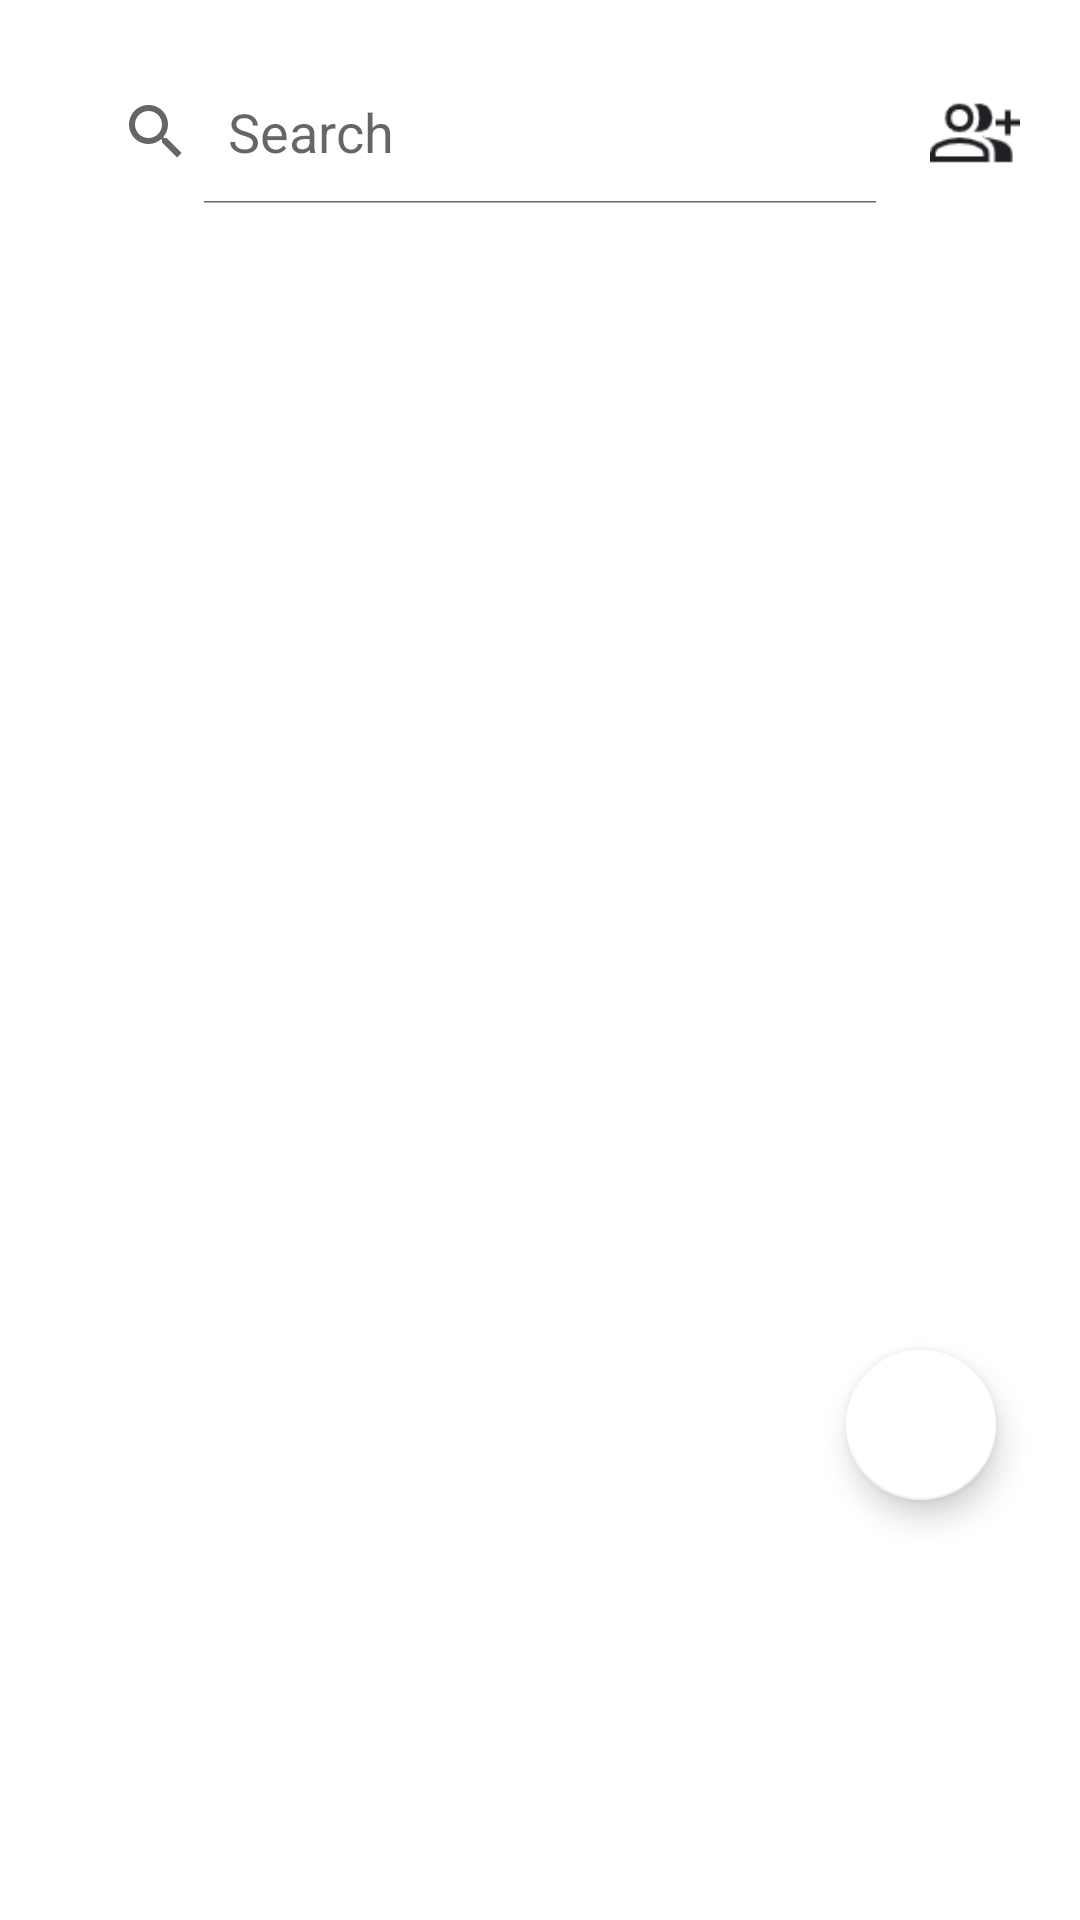

Named icons in this screenshot (1080px x 1920px) and their bounding boxes, {"left": x1, "top": y1, "right": x2, "bottom": y2}:
friend: {"left": 930, "top": 103, "right": 1020, "bottom": 163}
